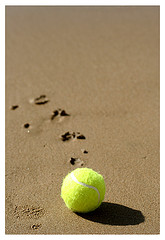tennis ball: (59, 166, 106, 215)
